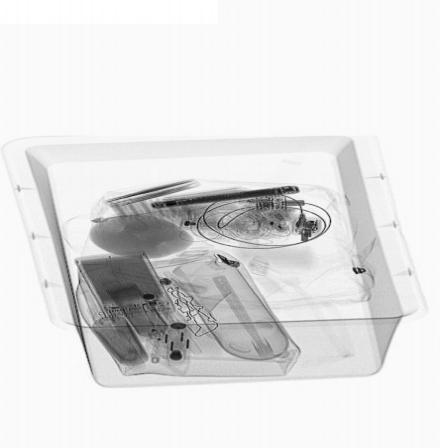Powerbank: (72, 250, 181, 319)
